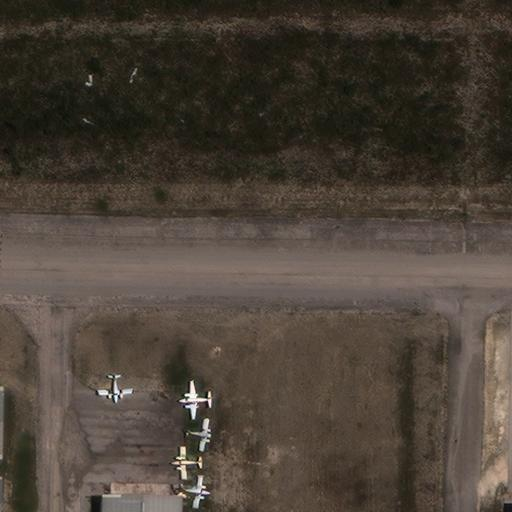Small Civil Transport: (176, 382, 215, 419), (171, 475, 212, 507), (168, 446, 204, 479), (97, 372, 132, 404), (183, 418, 213, 451)
